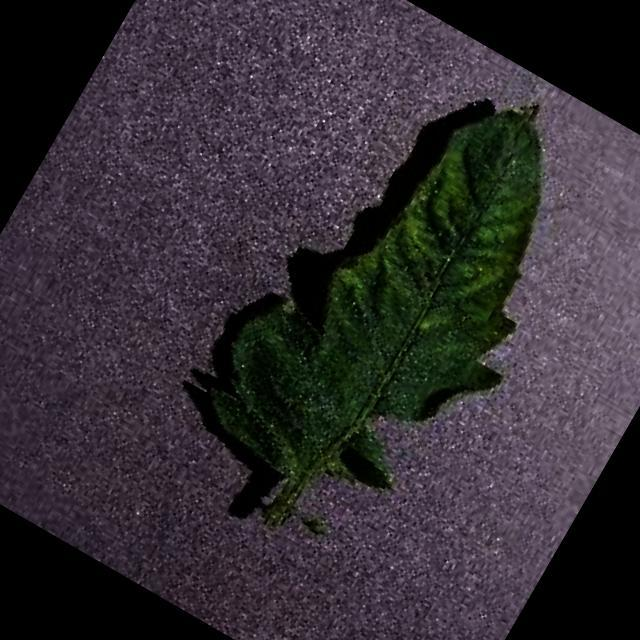Tomato mosaic virus leaf: (180, 26, 634, 554)
